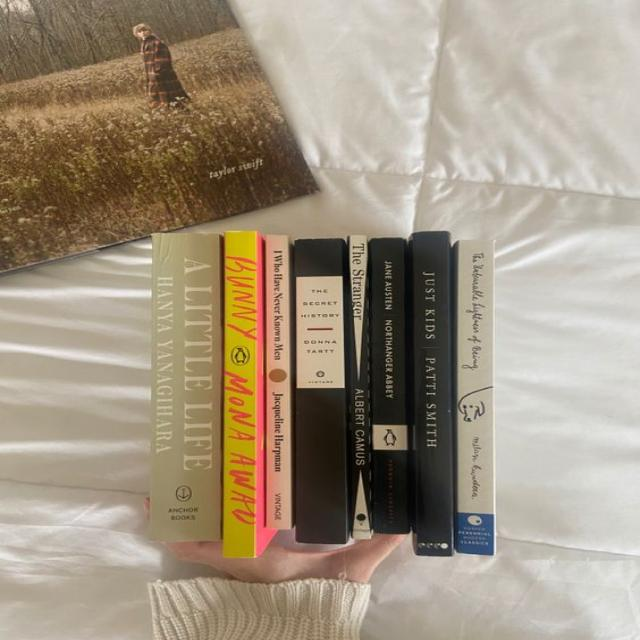book: (152, 234, 218, 542), (295, 240, 346, 544), (411, 231, 453, 556), (456, 240, 494, 554), (372, 239, 411, 534), (225, 230, 255, 558), (349, 235, 373, 540), (268, 235, 292, 529)
